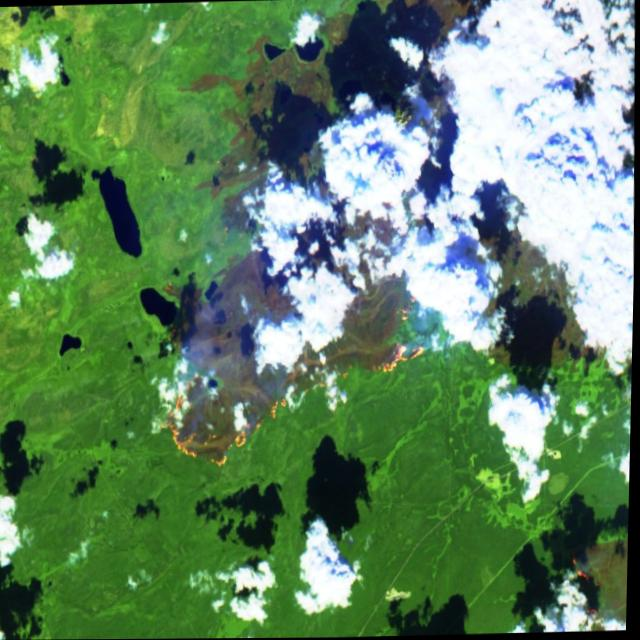fire: (142, 219, 437, 481)
